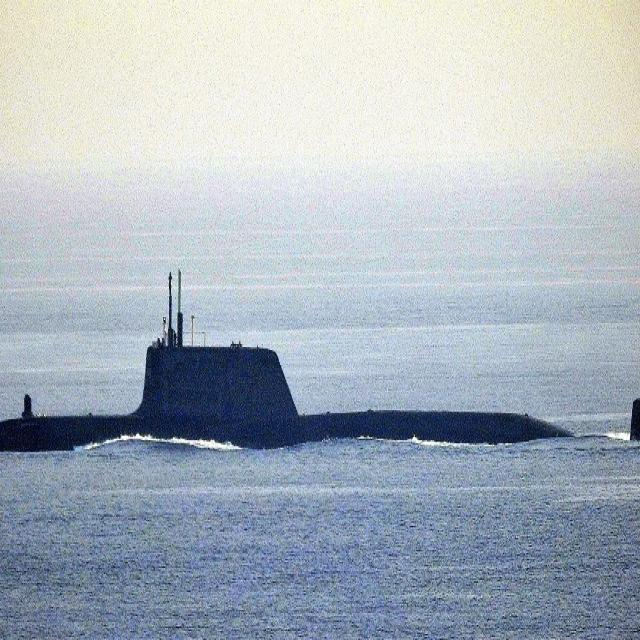submarine: (1, 347, 640, 459)
